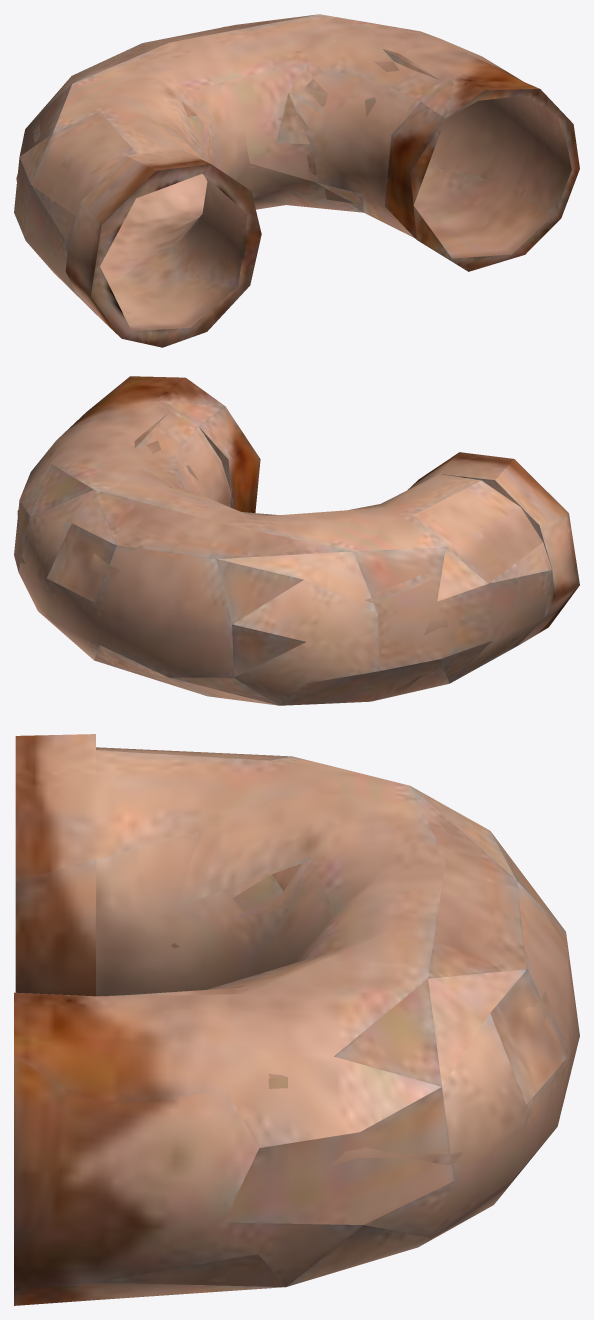
Rendered from small_copper_pipe_11.glb.
3 renders of one model, top to bottom at view 1: azimuth 30°, elevation 25°; view 2: azimuth 150°, elevation 25°; view 3: azimuth 270°, elevation 25°, orthographic. The views are drawn at different scales.
Parts seen in each view (by area): view 1: small_copper_pipe_11; view 2: small_copper_pipe_11; view 3: small_copper_pipe_11.
Boxes of the visible parts, x1,y1,x2,y2 form: small_copper_pipe_11: (14,14,579,347); small_copper_pipe_11: (14,376,579,705); small_copper_pipe_11: (14,734,579,1305).
Size of what is drawn, in the model's own units: 0.0613 by 0.0215 by 0.0381.
1 material, 1 textured.
